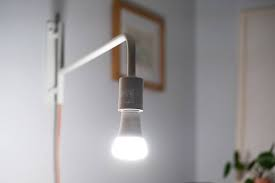bulb: (109, 107, 152, 170)
